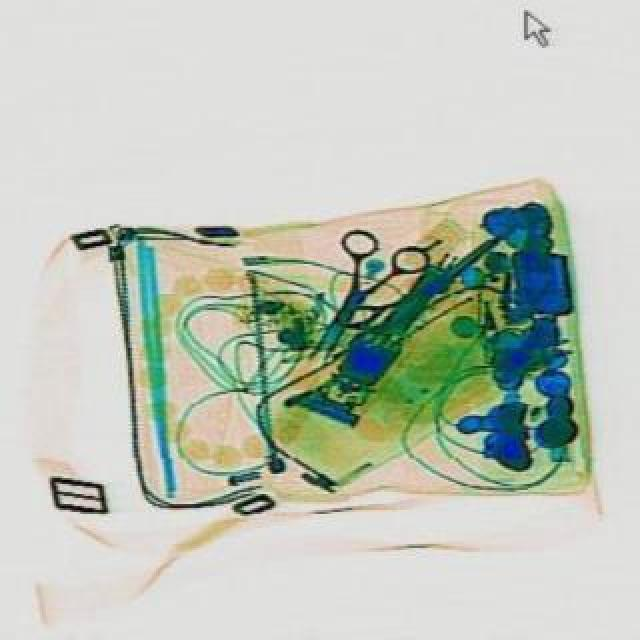pliers: (276, 214, 430, 380)
